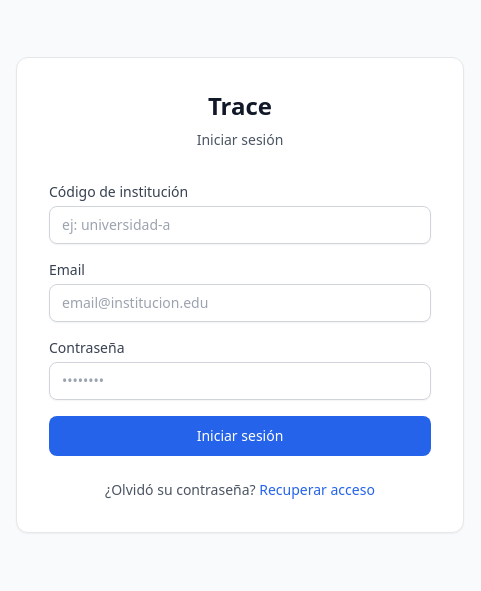
it: LoginPage › shows error for invalid credentials
The width and height of the screenshot is (481, 591).
Type "test" into the field labelled "Código de institución". click: (240, 225)
box: [49, 206, 431, 244]
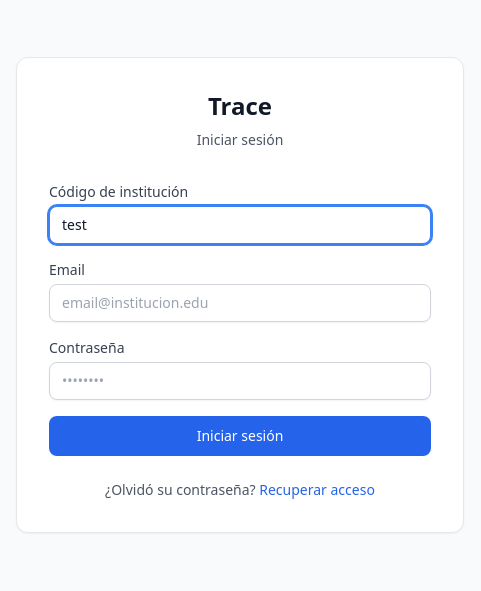
Type "user@test.com" into the field labelled "Email". click: (240, 303)
box: [49, 284, 431, 322]
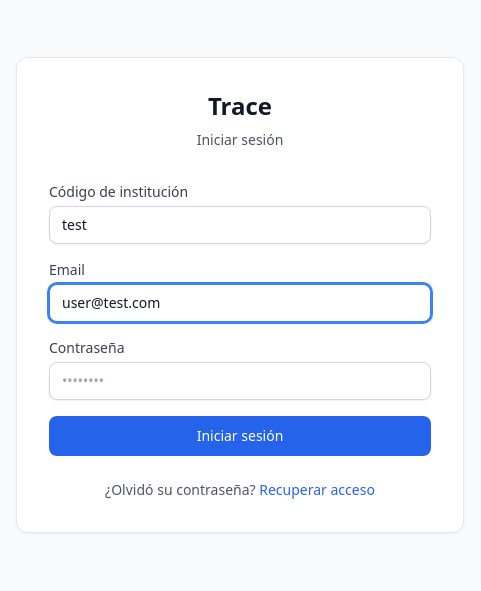
Type "wrong" into the password field labelled "Contraseña". click: (240, 381)
box: [49, 362, 431, 400]
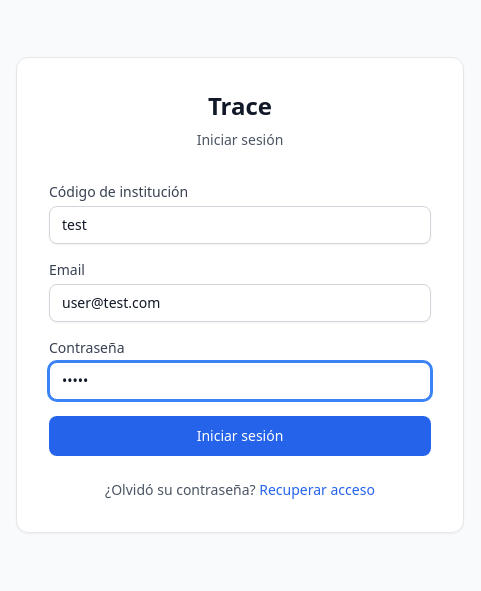
Click the button "Iniciar sesión". click: (240, 436)
box: [49, 416, 431, 456]
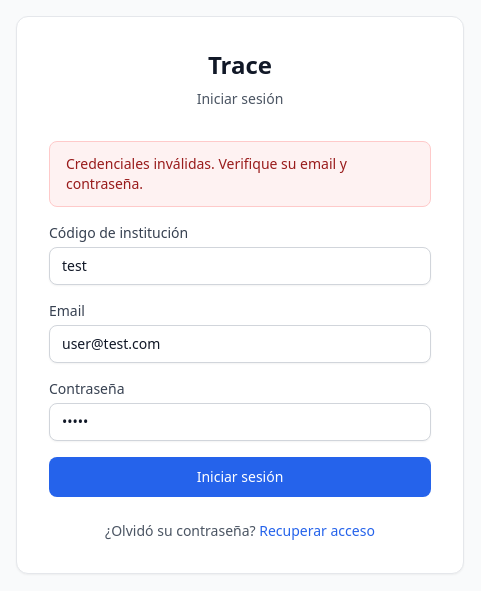
Expected: the text "Credenciales inválidas. Verifique su email y contraseña." is shown, [49, 141, 431, 207]
